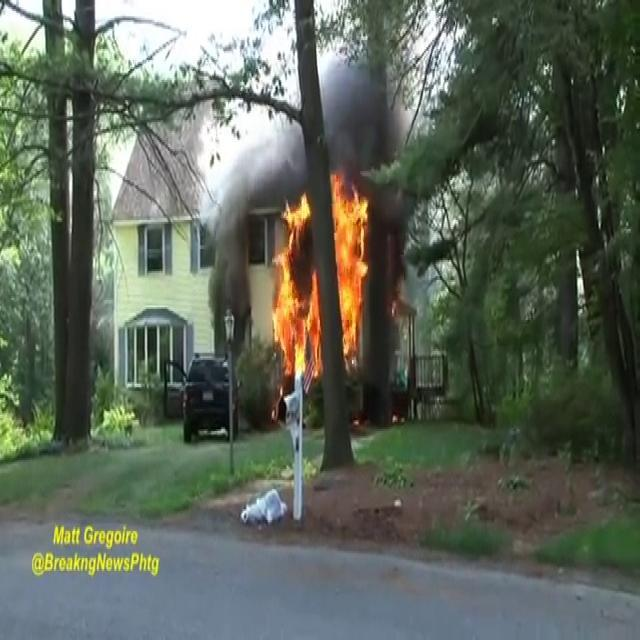Fire: (269, 172, 375, 383)
Smoke: (204, 127, 310, 296), (316, 41, 418, 192)
